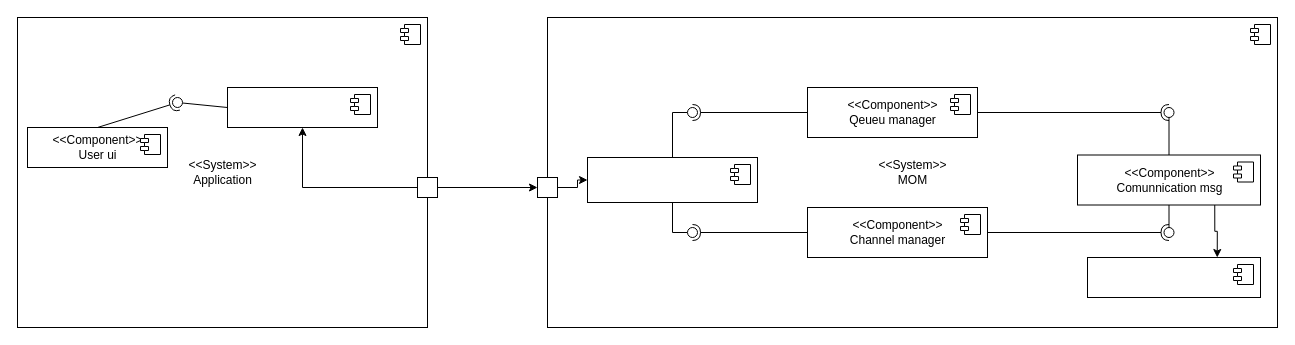
Image size: 1295x345. Some labels were removed from this diagram. Each missing label, with the box of its shape:
<<Component>> Server connection: (226, 86, 378, 128)
<<Componet>> Client connection: (586, 156, 758, 202)
<<service>> Messages: (1086, 256, 1260, 298)
